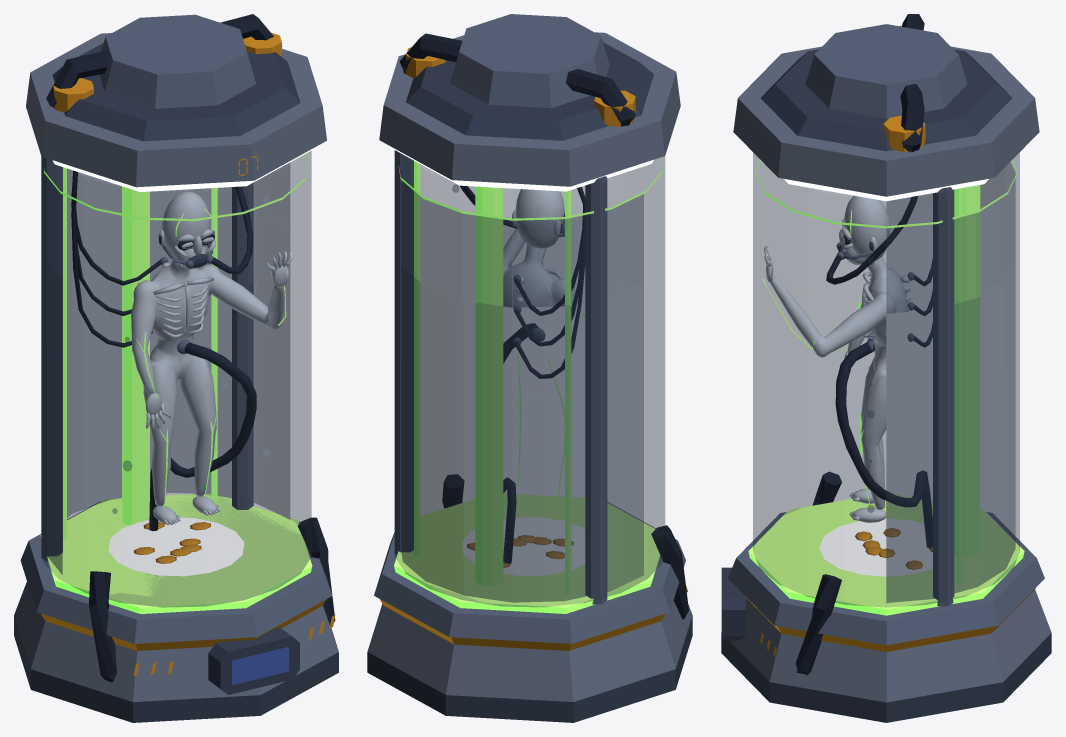
Rendered from lab_cocoon_tall.glb.
The picture shows the model from 3 angles, left to right: view 1: azimuth 30°, elevation 25°; view 2: azimuth 150°, elevation 25°; view 3: azimuth 270°, elevation 25°; orthographic projection.
Visible parts, largest first — view 1: bubble, abdominal_socket, crown, arm_capillary, closed_eyelid, articulated_digit, crown_hose, head_gasket, digit, warning_band, print; view 2: bubble, abdominal_socket, crown, arm_capillary, closed_eyelid, crown_hose, articulated_digit, head_gasket, warning_band, digit; view 3: bubble, crown, abdominal_socket, arm_capillary, closed_eyelid, articulated_digit, crown_hose, head_gasket, digit, warning_band.
Boxes of the visible parts, <box> form: bubble: <box>42,151,311,607</box>; abdominal_socket: <box>20,14,332,643</box>; crown: <box>14,33,338,702</box>; arm_capillary: <box>40,153,312,613</box>; closed_eyelid: <box>14,43,338,722</box>; articulated_digit: <box>131,191,292,525</box>; crown_hose: <box>46,14,335,682</box>; head_gasket: <box>52,148,312,576</box>; digit: <box>52,32,335,676</box>; warning_band: <box>41,599,326,650</box>; print: <box>232,646,288,685</box>; bubble: <box>395,150,664,606</box>; abdominal_socket: <box>374,14,685,643</box>; crown: <box>367,32,692,702</box>; arm_capillary: <box>394,157,662,613</box>; closed_eyelid: <box>367,42,692,722</box>; crown_hose: <box>399,33,688,619</box>; articulated_digit: <box>503,189,582,307</box>; head_gasket: <box>393,148,653,575</box>; warning_band: <box>379,599,665,650</box>; digit: <box>406,47,687,592</box>; bubble: <box>753,153,1019,607</box>; crown: <box>721,46,1051,702</box>; abdominal_socket: <box>728,24,1044,645</box>; arm_capillary: <box>748,160,1024,615</box>; closed_eyelid: <box>721,49,1051,722</box>; articulated_digit: <box>764,195,910,522</box>; crown_hose: <box>795,14,932,675</box>; head_gasket: <box>784,179,988,576</box>; digit: <box>760,25,932,657</box>; warning_band: <box>746,588,1035,651</box>.
Bounding box in the file's own units: 2.2 × 4.4 × 2.2.
